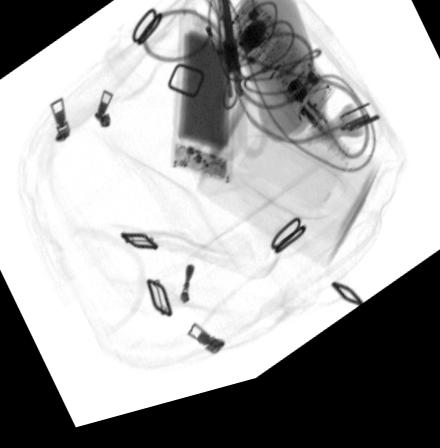Powerbank: (168, 39, 233, 197)
Scissors: (215, 0, 275, 174)
